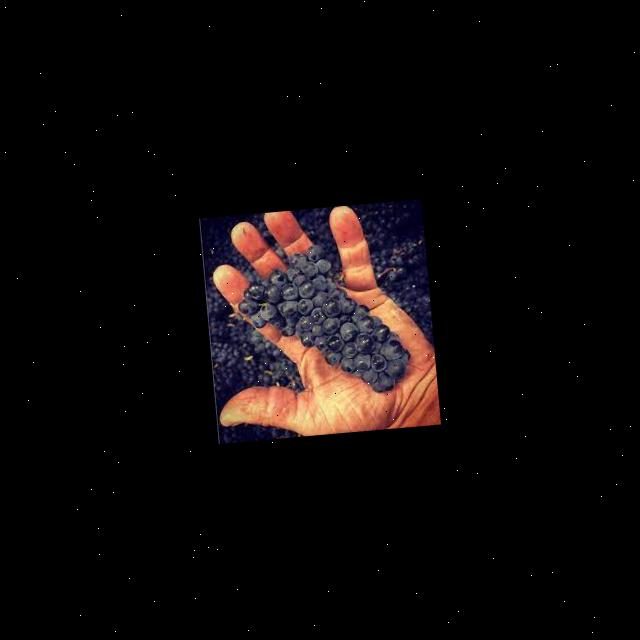grape: (232, 236, 412, 404)
